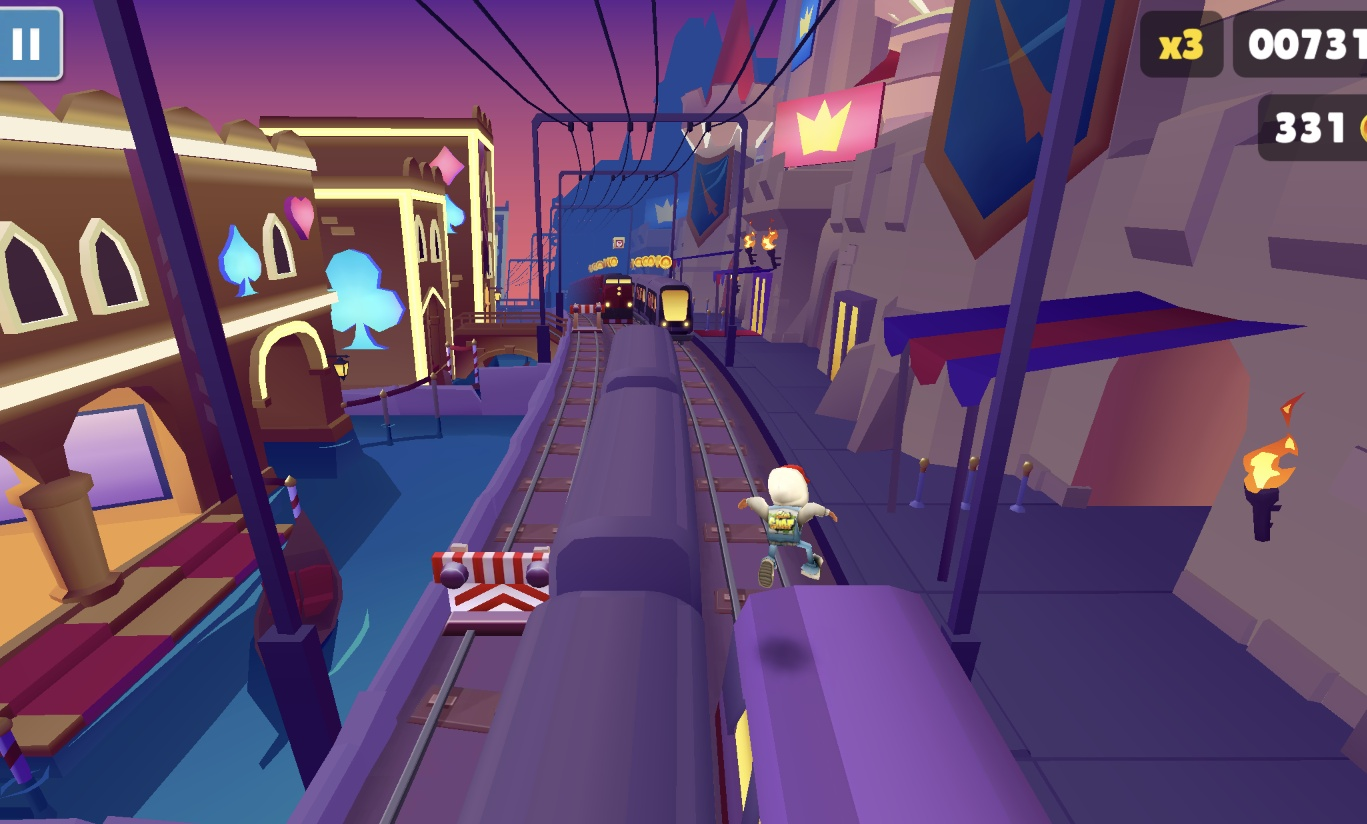ground_barrier: (431, 545, 556, 638), (570, 302, 604, 334)
train: (461, 324, 719, 824), (719, 586, 1051, 824), (630, 277, 695, 341), (580, 277, 634, 326)
